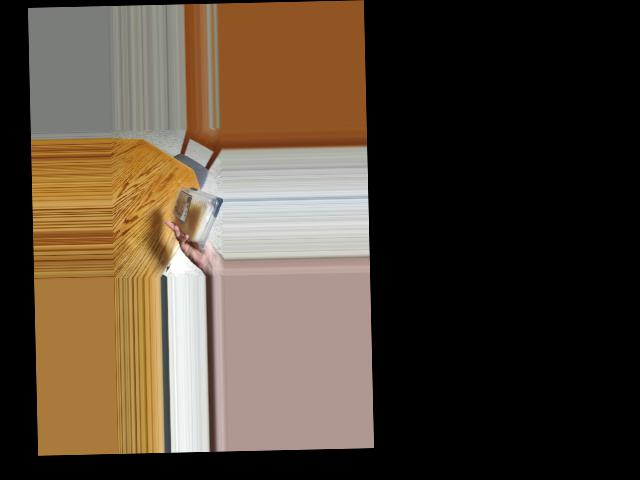cheese: (171, 186, 219, 243)
